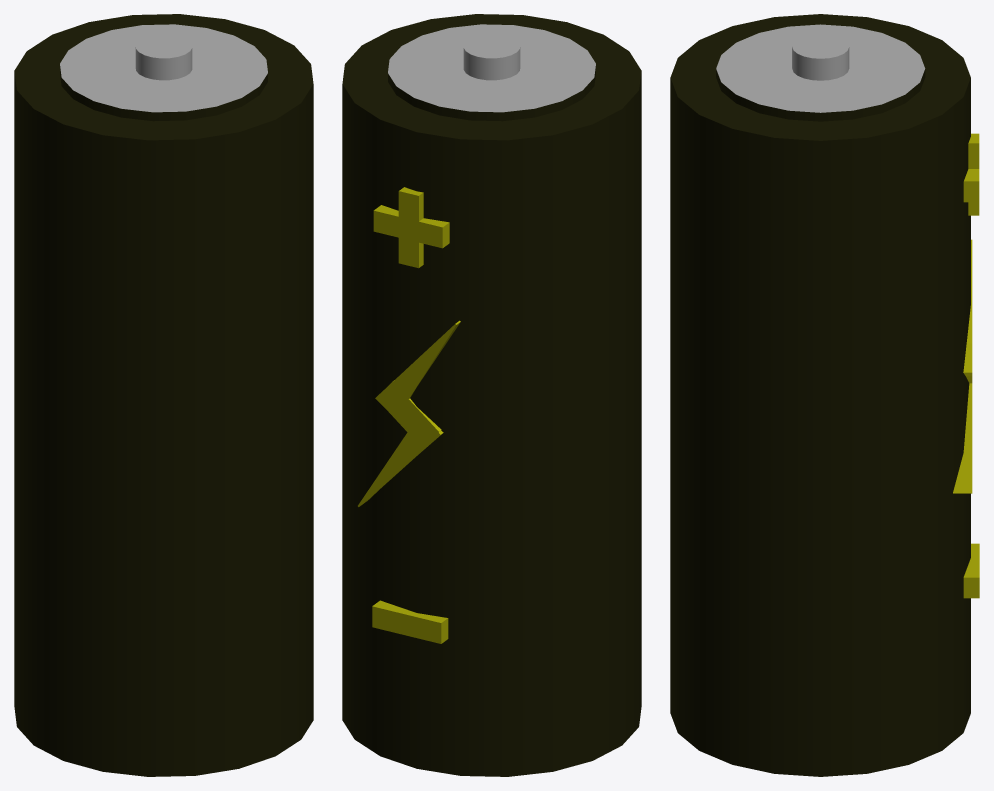
The model's file is AAA Battery.fbx.
3 views of the same model, side by side, from view 1: azimuth 30°, elevation 25°; view 2: azimuth 150°, elevation 25°; view 3: azimuth 270°, elevation 25° (orthographic).
Parts seen in each view (by area): view 1: polySurface4; view 2: polySurface4, polySurface1, polySurface2, polySurface6, polySurface3, polySurface5, polySurface7; view 3: polySurface4, polySurface6, polySurface1, polySurface3, polySurface2, polySurface7.
Part boxes in pixels (x1,y1,x2,y2): polySurface4: [14, 14, 313, 776]; polySurface4: [342, 14, 641, 776]; polySurface1: [372, 600, 448, 643]; polySurface2: [373, 205, 449, 248]; polySurface6: [358, 414, 443, 506]; polySurface3: [398, 187, 423, 268]; polySurface5: [377, 380, 441, 447]; polySurface7: [375, 320, 460, 414]; polySurface4: [670, 14, 970, 776]; polySurface6: [953, 383, 972, 493]; polySurface1: [963, 543, 979, 598]; polySurface3: [968, 133, 979, 215]; polySurface2: [963, 169, 979, 202]; polySurface7: [963, 239, 972, 376].
Size of the model in its own units: 2 by 4.9 by 2.06.
